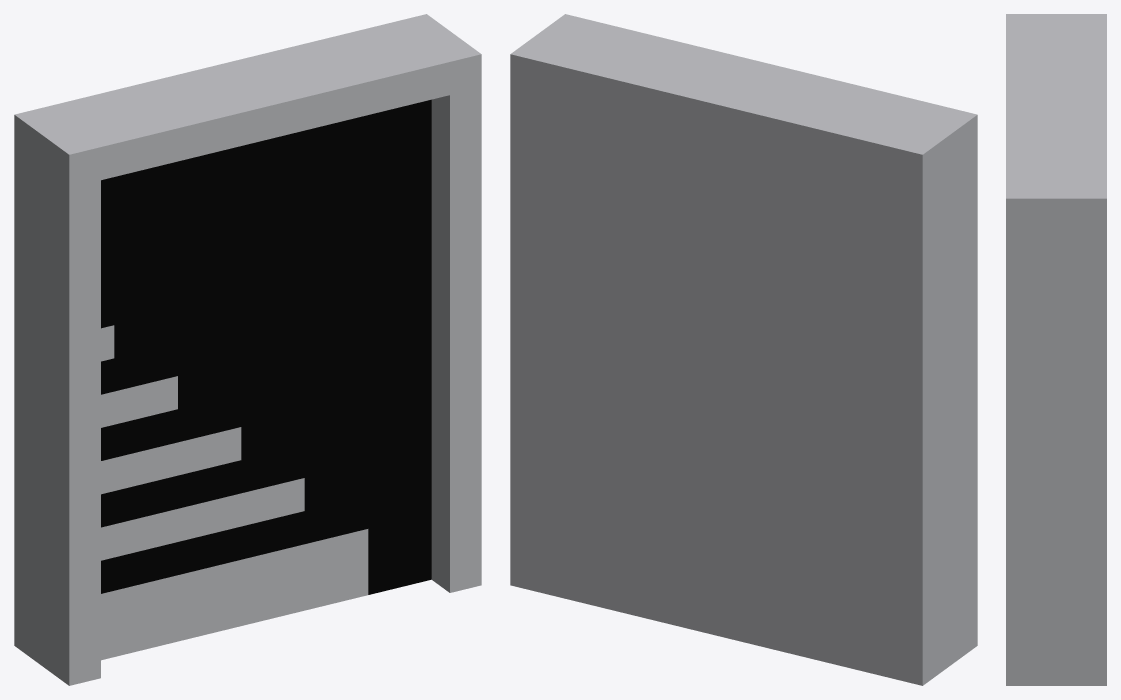
The model's file is dungeon_d_b_entrance_b_flipped.obj.
The picture shows the model from 3 angles, left to right: view 1: azimuth 30°, elevation 25°; view 2: azimuth 150°, elevation 25°; view 3: azimuth 270°, elevation 25°; orthographic projection. The views are drawn at different scales.
Size of the model in its own units: 1.3 by 1.6 by 0.3.
Materials: 1 (1 with a texture image).
